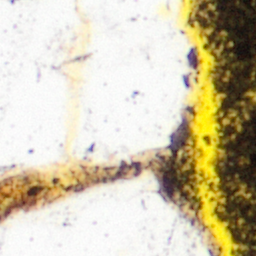cement_matrix: (195, 0, 255, 255), (159, 127, 197, 206), (24, 186, 39, 200)
cracks: (0, 0, 238, 255), (158, 126, 198, 207), (23, 185, 40, 201)
gravel_crushed_stones: (0, 0, 193, 177), (0, 171, 210, 255)
